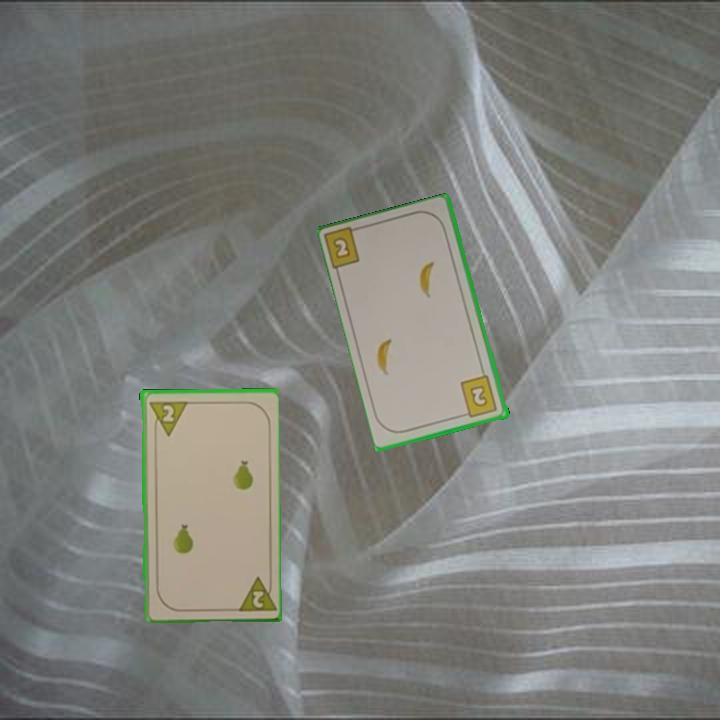2b: (323, 223, 366, 273), (457, 372, 500, 420)
2p: (232, 572, 276, 614), (145, 397, 188, 438)
